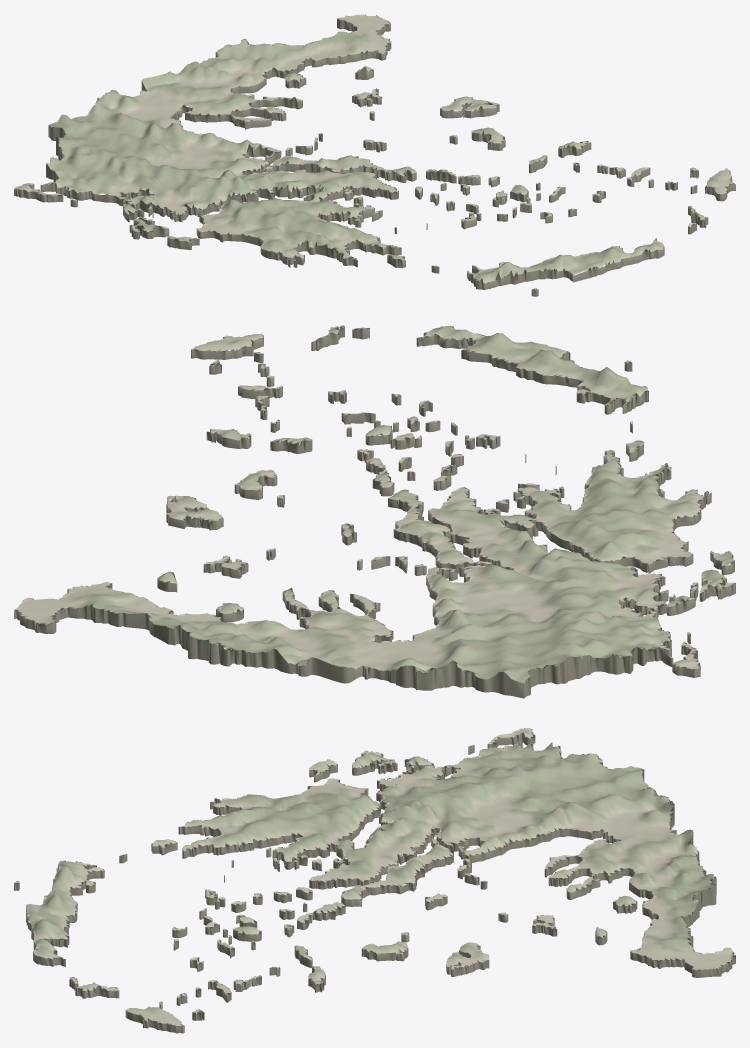
Rendered from gr-desktop.glb.
3 views of the same model, one above another, from view 1: azimuth 30°, elevation 25°; view 2: azimuth 150°, elevation 25°; view 3: azimuth 270°, elevation 25° (orthographic). The views are drawn at different scales.
Size of the model in its own units: 97.86 by 3.44 by 99.98.
